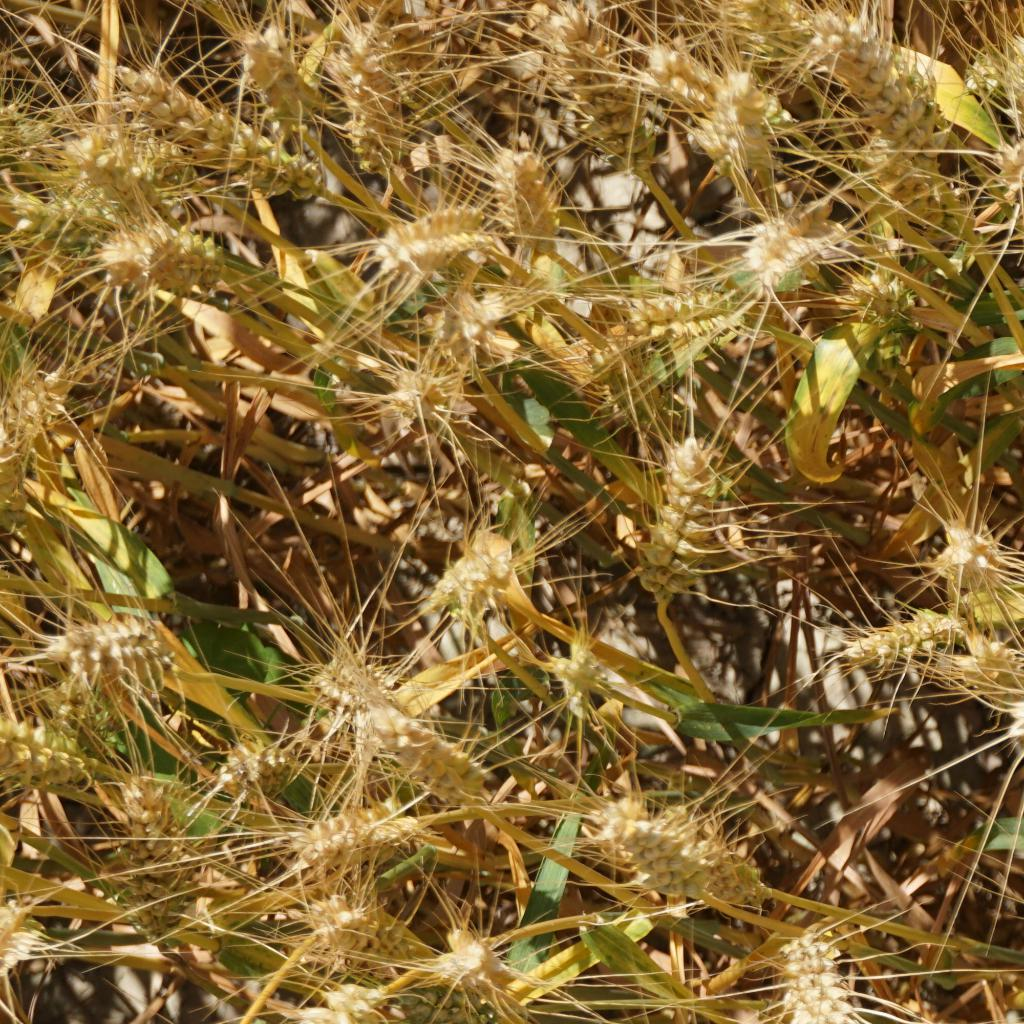0-0: (122, 71, 325, 204), (808, 16, 960, 166), (623, 429, 740, 595), (545, 13, 653, 172), (108, 760, 201, 944), (762, 918, 920, 1024), (651, 802, 786, 912), (602, 804, 715, 922), (339, 184, 495, 267), (464, 131, 560, 251), (410, 534, 531, 621), (834, 605, 981, 676), (368, 704, 485, 792), (0, 354, 89, 464), (31, 614, 165, 687), (89, 225, 221, 293), (380, 964, 529, 1024), (918, 640, 1024, 722), (905, 506, 1016, 583), (275, 797, 413, 858), (236, 33, 308, 144), (604, 284, 744, 338), (34, 671, 119, 759), (324, 31, 400, 126), (64, 138, 159, 212), (93, 118, 196, 186), (5, 187, 107, 253), (866, 138, 942, 222), (0, 721, 97, 786), (416, 279, 509, 346), (836, 256, 913, 333), (738, 201, 809, 282), (719, 73, 775, 175), (635, 34, 711, 108), (300, 634, 376, 706), (243, 982, 371, 1024), (301, 886, 384, 949), (380, 357, 464, 419), (749, 0, 813, 77), (424, 925, 502, 988), (337, 116, 410, 181), (210, 724, 282, 784), (559, 335, 628, 397), (694, 109, 752, 180), (0, 108, 61, 173), (961, 34, 1024, 95), (538, 644, 607, 699), (1, 896, 39, 984), (954, 579, 1023, 621)
